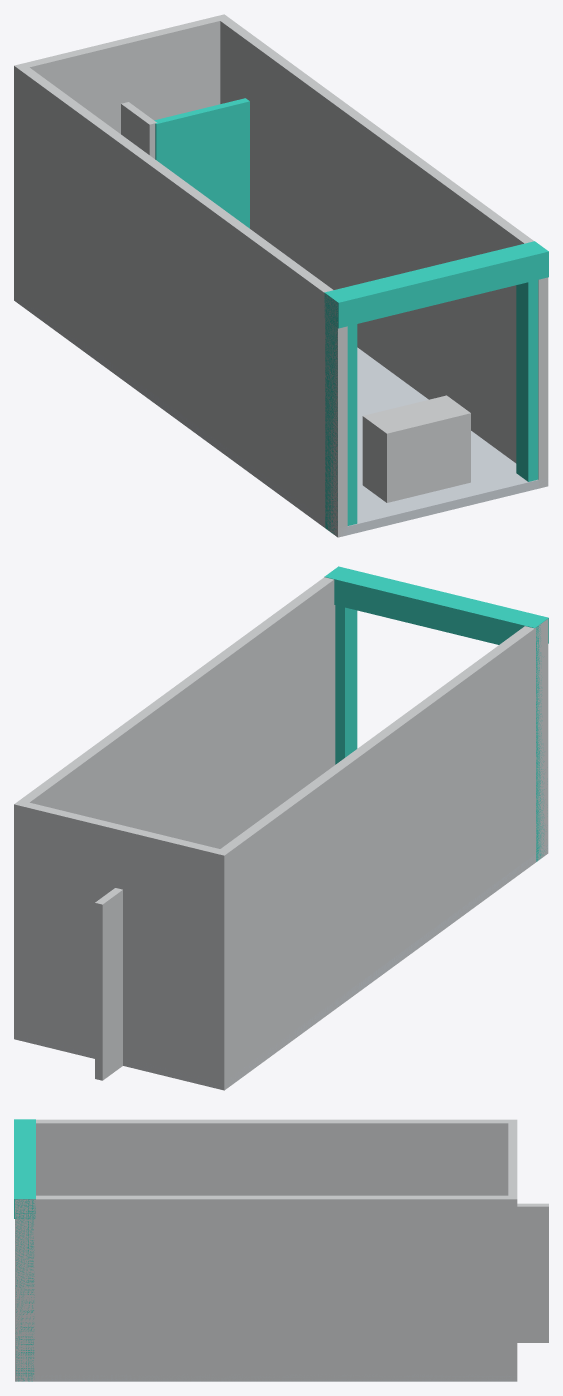
3 renders of one model, top to bottom at view 1: azimuth 30°, elevation 25°; view 2: azimuth 150°, elevation 25°; view 3: azimuth 270°, elevation 25°, orthographic. The views are drawn at different scales.
Parts seen in each view (by area): view 1: Exhibition Booth Concept; view 2: Exhibition Booth Concept; view 3: Exhibition Booth Concept.
Part boxes in pixels (x1,y1,x2,y2): Exhibition Booth Concept: (14, 14, 548, 537); Exhibition Booth Concept: (14, 566, 548, 1090); Exhibition Booth Concept: (14, 1119, 548, 1381).
Bounding box in the file's own units: 3 × 3.2 × 8.52.
